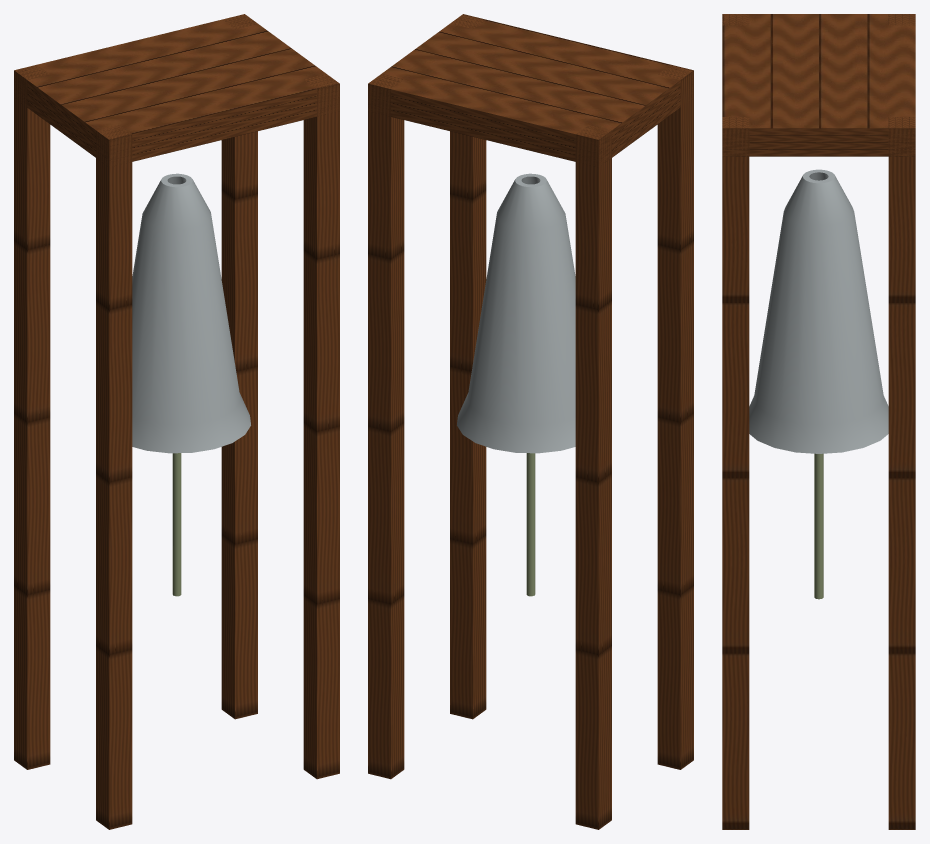
The model's file is rural-scavenging-settlements-village-bell-post-45c71519__26594.glb.
3 renders of one model, left to right at view 1: azimuth 30°, elevation 25°; view 2: azimuth 150°, elevation 25°; view 3: azimuth 270°, elevation 25°, orthographic.
Parts seen in each view (by area): view 1: village-bell-post; view 2: village-bell-post; view 3: village-bell-post.
Boxes of the visible parts, x1=… form: village-bell-post: x1=14, y1=14, x2=339, y2=829; village-bell-post: x1=368, y1=14, x2=693, y2=829; village-bell-post: x1=722, y1=14, x2=915, y2=829.
Bounding box in the file's own units: 0.7 × 2 × 0.5001.
3 materials, 1 textured.
